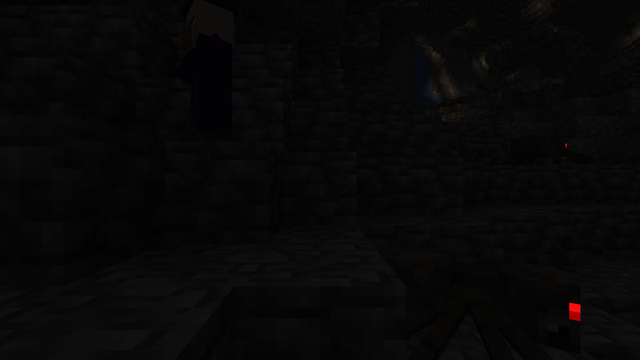araignees: (384, 237, 633, 346), (501, 131, 591, 160)
sorcieres: (175, 1, 238, 121)
